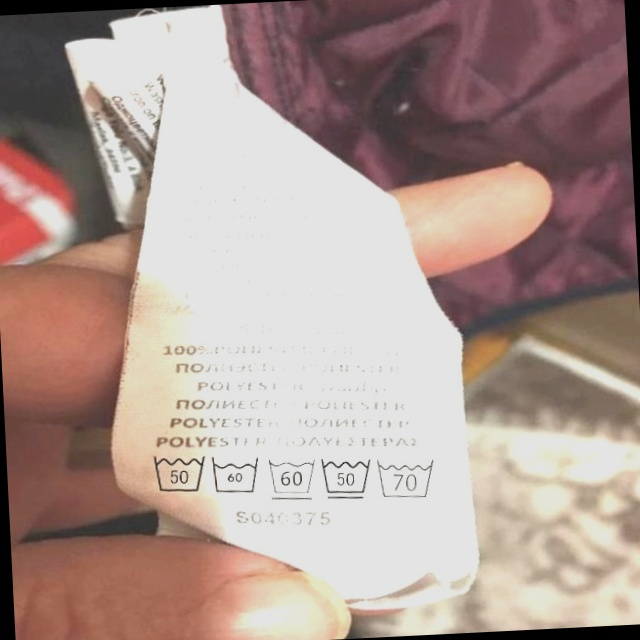50C: (146, 446, 211, 499), (318, 452, 376, 504)
60C: (266, 452, 321, 503), (209, 451, 265, 500)
70C: (376, 454, 442, 502)
